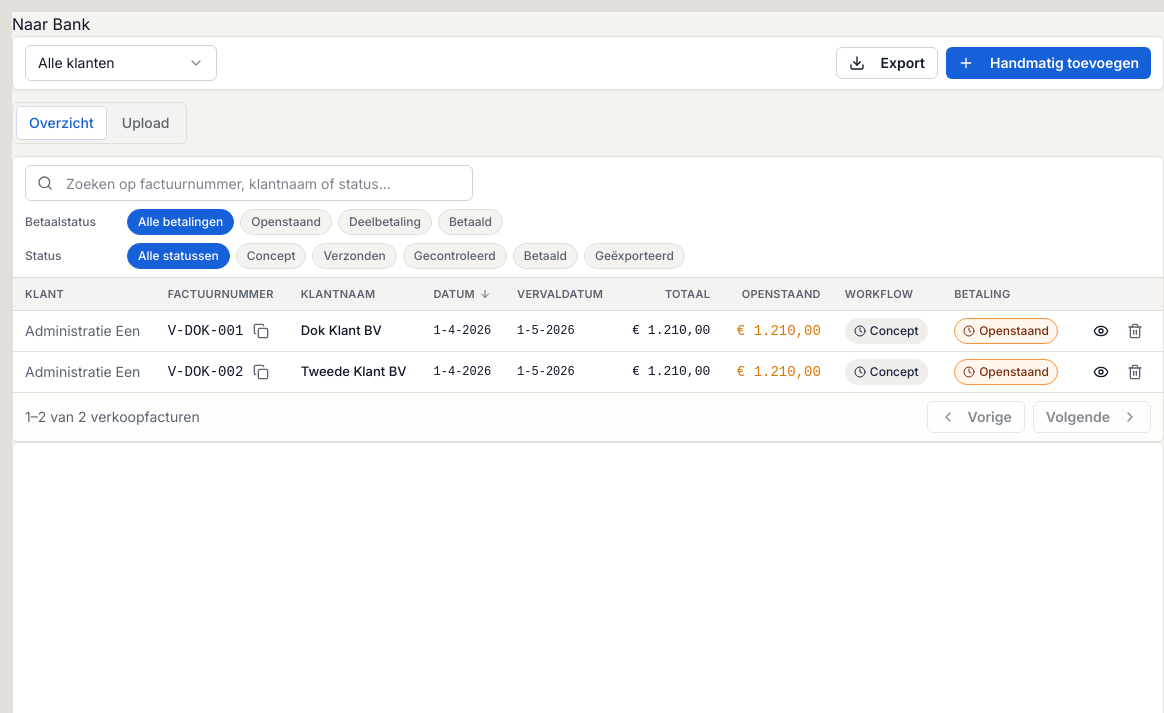
Test case: Verkoop — desktop detaildok (>= 1360px) › sluit de geopende factuur als het werkgebied wisselt (Codex P1, review 6)
// Factuur A (administratie c-1) staat open in het dok.
Click the 2nd row: (588, 330) [13,310,1163,351]
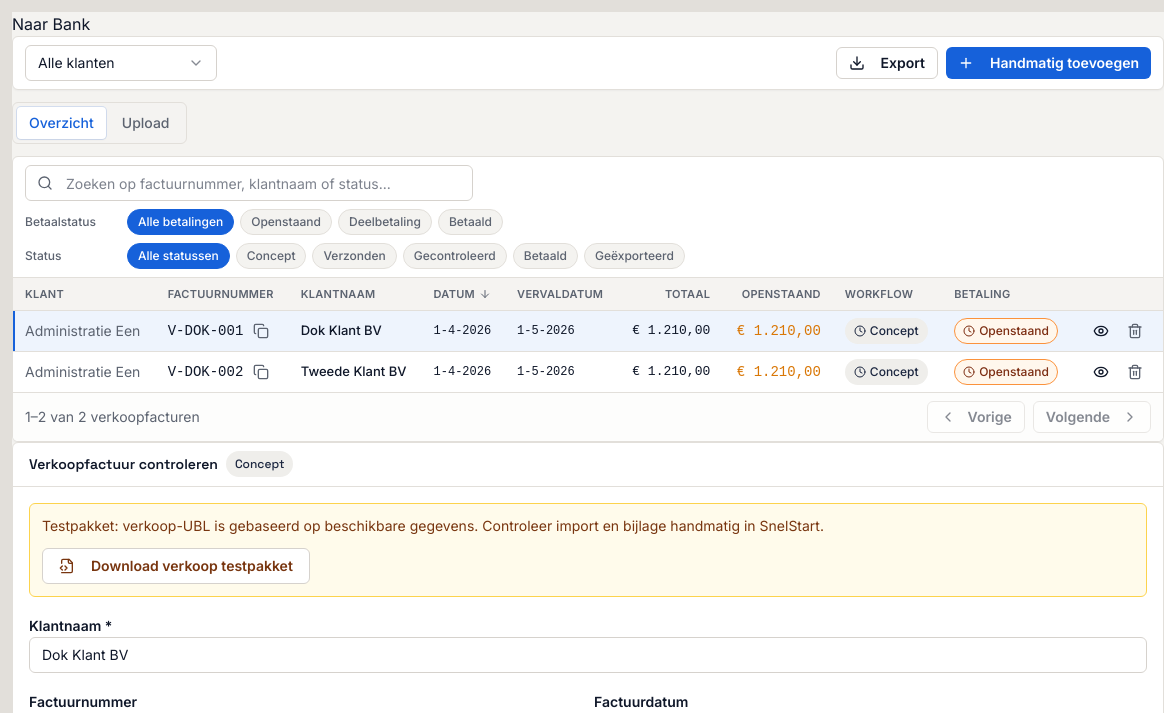
Now the field showing "Dok Klant BV" below "Klantnaam *" is shown, box [29,636,1147,672]
